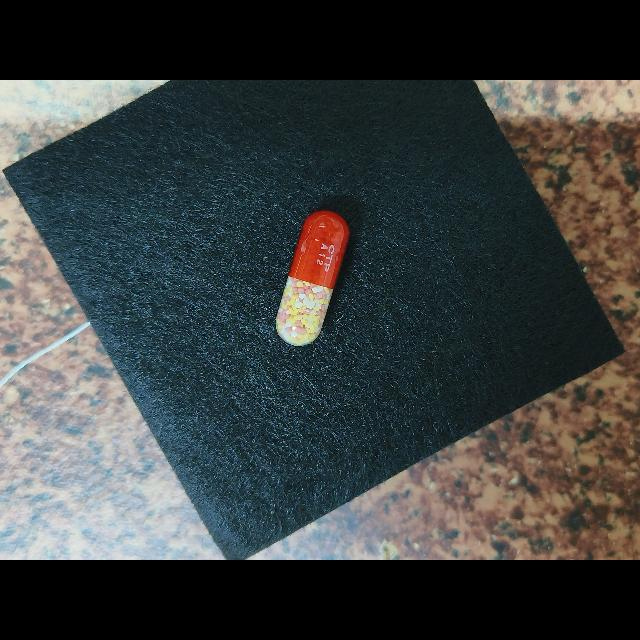Intact Capsule: (276, 210, 350, 346)
